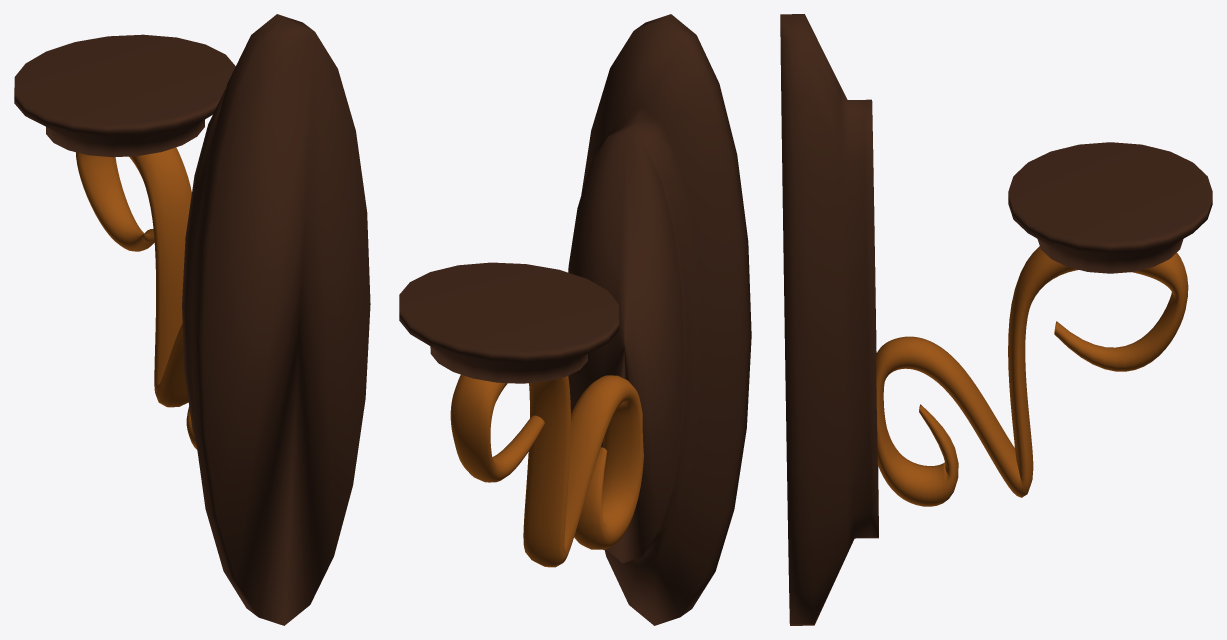
Rendered from light_wall_small.fbx.
3 views of the same model, side by side, from view 1: azimuth 30°, elevation 25°; view 2: azimuth 150°, elevation 25°; view 3: azimuth 270°, elevation 25° (orthographic).
Parts seen in each view (by area): view 1: Cylinder.004, NurbsPath.001; view 2: Cylinder.004, NurbsPath.001; view 3: Cylinder.004, NurbsPath.001.
Part boxes in pixels (bbox=[...]): Cylinder.004: bbox=[14, 14, 370, 625]; NurbsPath.001: bbox=[76, 147, 197, 449]; Cylinder.004: bbox=[399, 14, 751, 625]; NurbsPath.001: bbox=[450, 374, 643, 567]; Cylinder.004: bbox=[780, 14, 1212, 625]; NurbsPath.001: bbox=[876, 246, 1188, 506].
Bounding box in the file's own units: 38.31 × 111 × 70.86.
